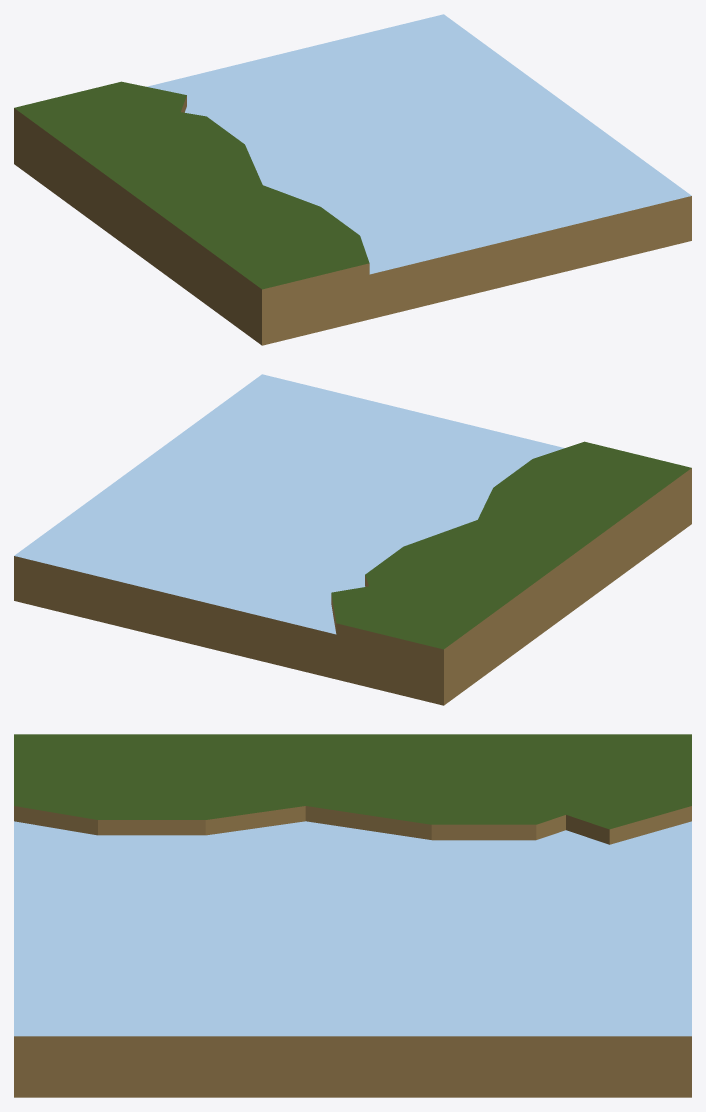
Rendered from Terrain_Tile_Grass_Dirt_Water_Bank_01.fbx.
The picture shows the model from 3 angles, top to bottom: view 1: azimuth 30°, elevation 25°; view 2: azimuth 150°, elevation 25°; view 3: azimuth 270°, elevation 25°; orthographic projection. The views are drawn at different scales.
Parts seen in each view (by area): view 1: Model; view 2: Model; view 3: Model.
Boxes of the visible parts, bbox=[...] form: Model: bbox=[14, 14, 691, 345]; Model: bbox=[14, 374, 691, 705]; Model: bbox=[14, 734, 691, 1097].
Bounding box in the file's own units: 2000 × 250 × 2000.
